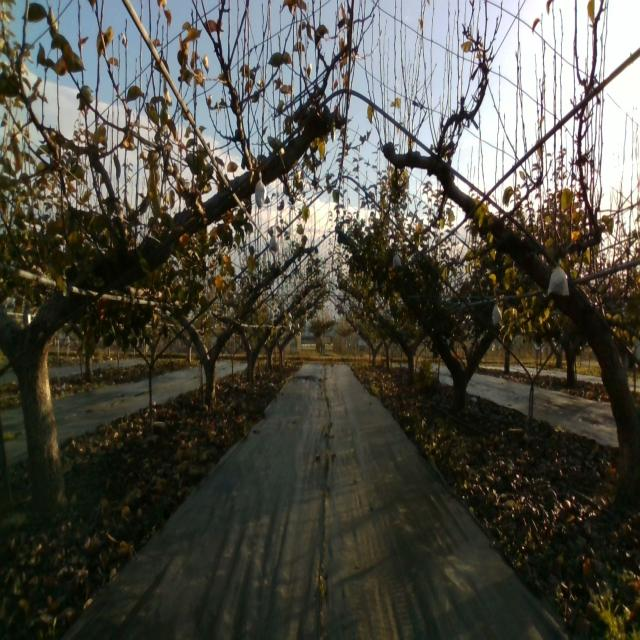pearbags: (546, 260, 570, 296), (255, 172, 267, 209), (492, 302, 502, 326), (268, 233, 280, 253)
